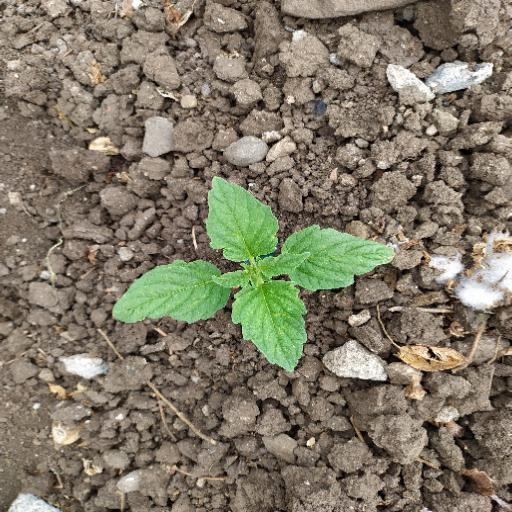crop: (105, 177, 393, 371)
